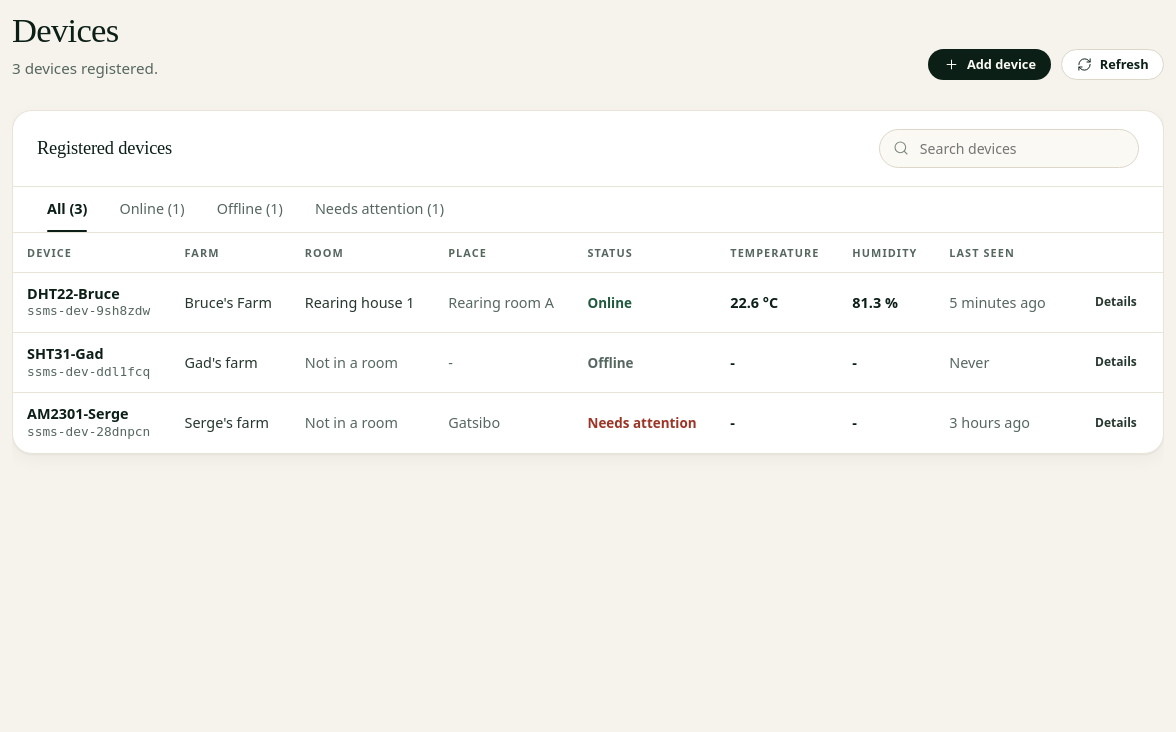
Test: Devices page › searches names, farms, places and keys
This screenshot has width=1176, height=732.
Expected: the text "DHT22-Bruce" is shown, [27,284,120,303]
In the search field labelled "Search devices": (1009, 148) [879,129,1139,168], type "ddl1"
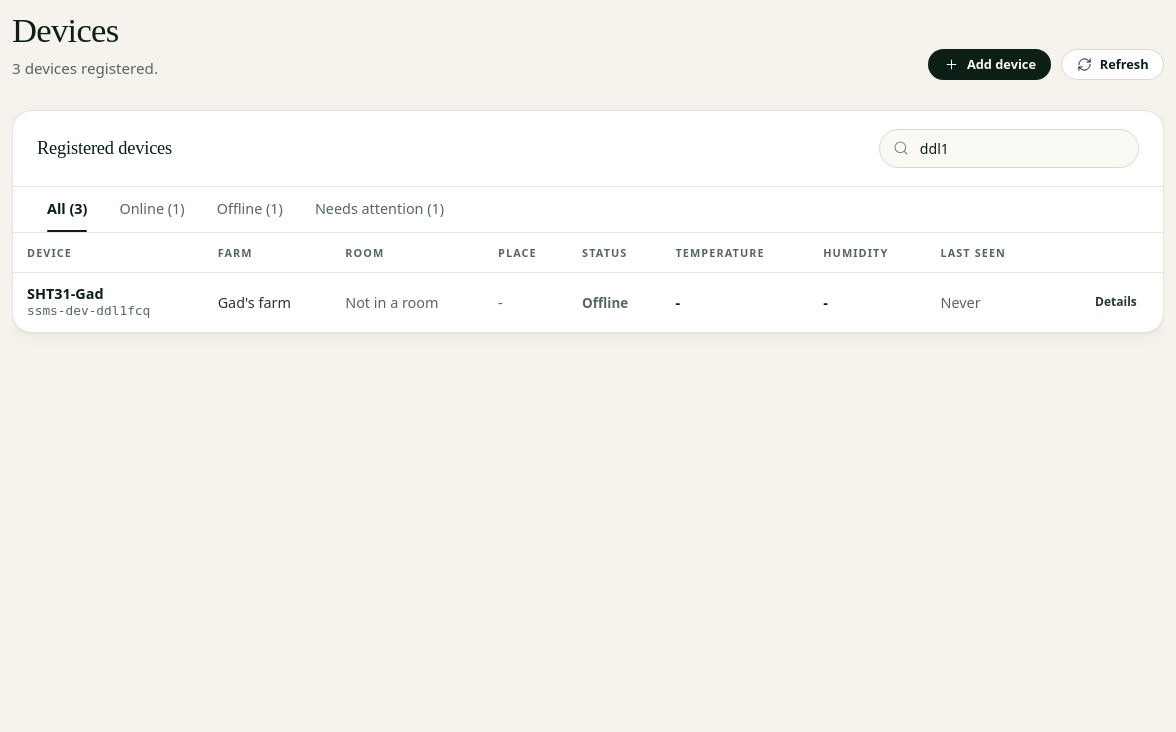
Expected: the text "SHT31-Gad" is shown, [27,284,104,303]
Expected: the text "DHT22-Bruce" is gone
Replace the text in the search field named "Search devices" with "zzz": (1009, 148) [879,129,1139,168]
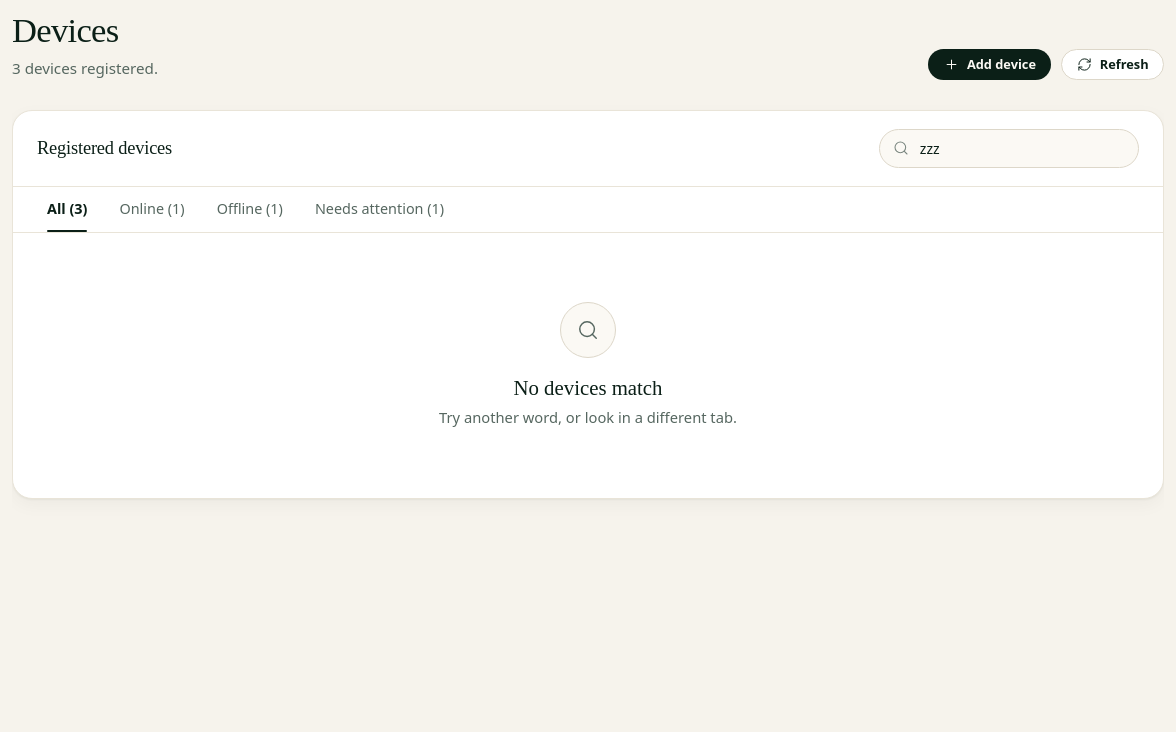
Expected: the heading "No devices match" is shown, [514,376,662,400]
